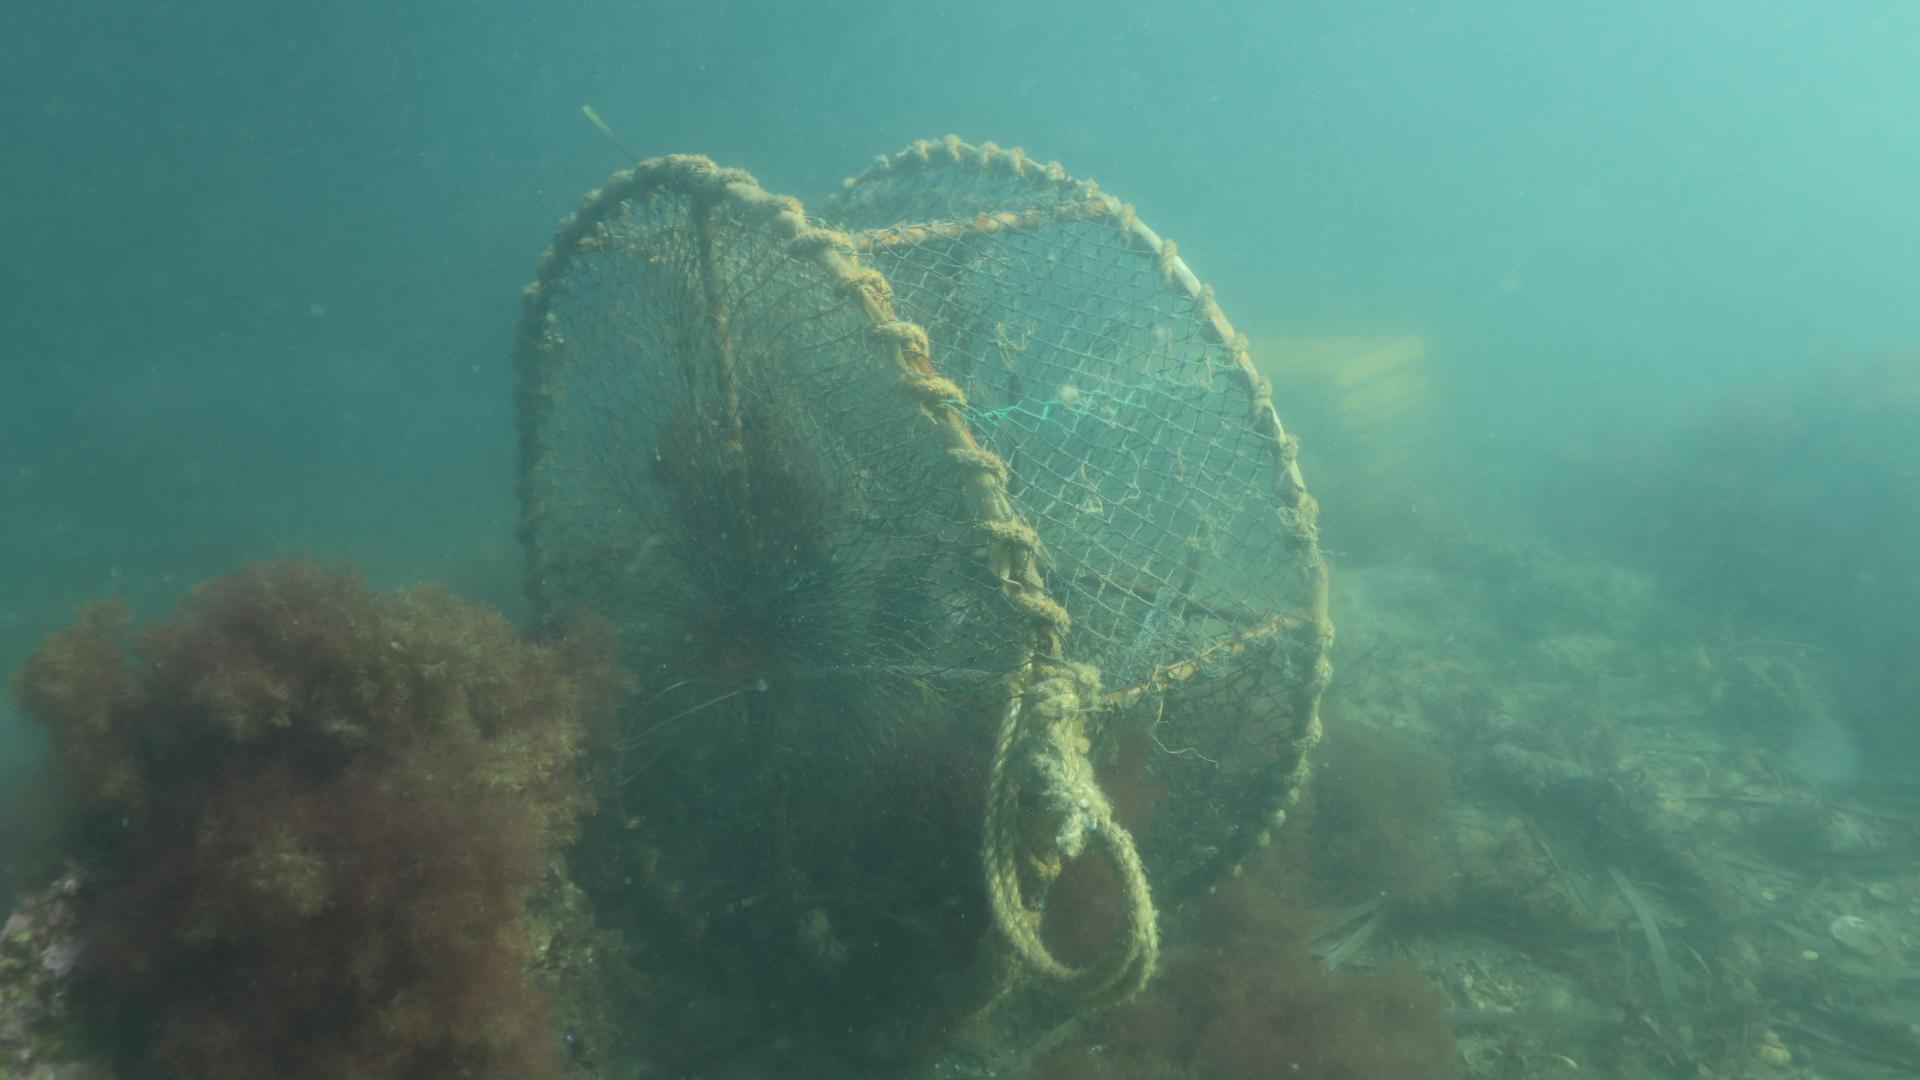circular fish trap: (514, 135, 1335, 1058)
